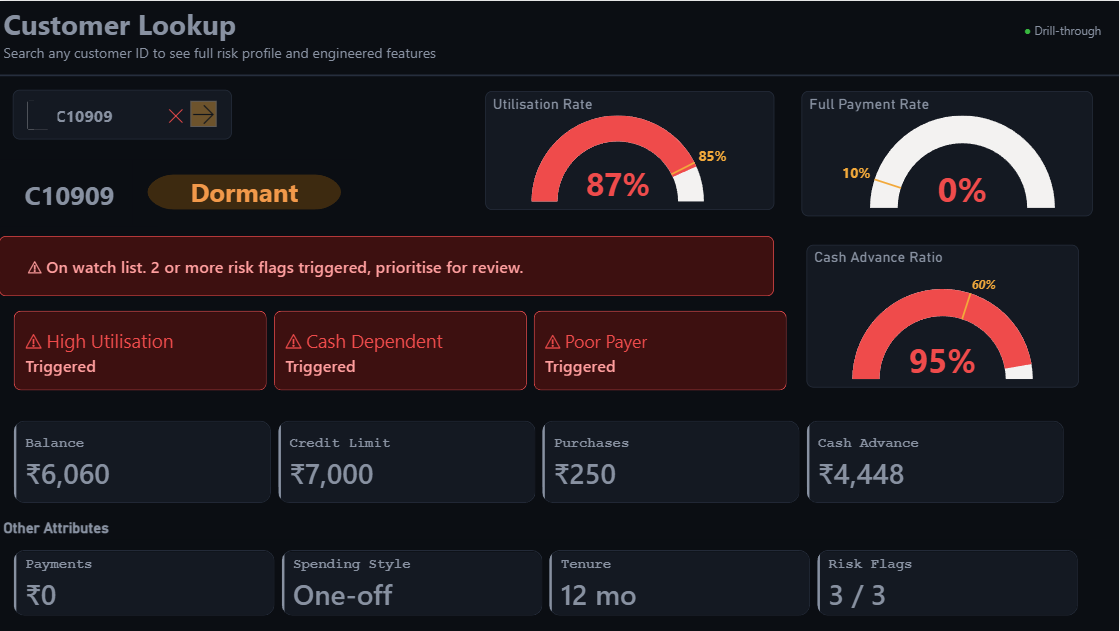

Layout of this report page (visuals, bound fields, positions):
{"tool":"powerbi","page":{"name":"04 Lookup","canvas":[1280,720],"ordinal":3},"visuals":[{"type":"textbox","box":[0,0,1280,78.6],"z":0},{"type":"textSlicer","fields":{"Values":["credit_card_final.cust_id"]},"box":[15.7,101.4,250,57.1],"z":0,"group":"g1"},{"type":"shape","box":[39.4,102.6,26.9,44.3],"z":1000,"group":"g1"},{"type":"cardVisual","fields":{"Data":["credit_card_final.Selected Balance","credit_card_final.Selected Credit Limit","credit_card_final.Selected Purchases","credit_card_final.Selected Cash Advance"]},"box":[0,462.9,1234.3,128.6],"z":1000},{"type":"group","id":"g1","title":"Group 1","box":[15.7,101.4,250,57.1],"z":2000},{"type":"shape","box":[0,78.6,1280,12.9],"z":3000},{"type":"gauge","title":"Utilisation Rate","fields":{"Y":["credit_card_final.Selected Utilisation"]},"box":[555.7,102.9,330,135.7],"z":4000},{"type":"gauge","title":"Full Payment Rate","fields":{"Y":["credit_card_final.Selected Full Payment"]},"box":[917.1,102.9,332.9,142.9],"z":5000},{"type":"gauge","title":"Cash Advance Ratio","fields":{"Y":["credit_card_final.Selected Cash Ratio"]},"box":[922.9,278.6,311.4,162.9],"z":6000},{"type":"cardVisual","fields":{"Data":["credit_card_final.Selected Customer ID"]},"box":[0,181.4,181.4,75.7],"z":7000},{"type":"cardVisual","fields":{"Data":["credit_card_final.Selected Segment"]},"box":[152.9,181.4,255.7,74.3],"z":8000},{"type":"cardVisual","title":"Other Attributes","fields":{"Data":["credit_card_final.Selected Payments","credit_card_final.Selected Purchase Type","credit_card_final.Selected Tenure","credit_card_final.Selected Risk Flags"]},"box":[0,591.4,1250,128.6],"z":9000},{"type":"cardVisual","fields":{"Data":["credit_card_final.Watch List Status"]},"box":[0,268.6,885.7,68.6],"z":10000},{"type":"cardVisual","fields":{"Data":["credit_card_final.High Util Display","credit_card_final.Cash Dep Display","credit_card_final.Poor Payer Display"]},"box":[0,337.1,917.1,125.7],"z":11000}]}

Visuals, with their boxes in screenshot pixels (x1, y1, x2, y2), scaled from the page's 1280x720 canvas onto the 1120x631 screenshot:
textbox: box(0, 0, 1119, 69)
textSlicer - credit_card_final.cust_id: box(14, 89, 232, 139)
shape: box(34, 90, 58, 129)
cardVisual - credit_card_final.Selected Balance x credit_card_final.Selected Credit Limit: box(0, 406, 1080, 518)
"Group 1" group: box(14, 89, 232, 139)
shape: box(0, 69, 1119, 80)
"Utilisation Rate" gauge: box(486, 90, 775, 209)
"Full Payment Rate" gauge: box(802, 90, 1094, 215)
"Cash Advance Ratio" gauge: box(808, 244, 1080, 387)
cardVisual - credit_card_final.Selected Customer ID: box(0, 159, 159, 225)
cardVisual - credit_card_final.Selected Segment: box(134, 159, 358, 224)
"Other Attributes" cardVisual: box(0, 518, 1094, 630)
cardVisual - credit_card_final.Watch List Status: box(0, 235, 775, 296)
cardVisual - credit_card_final.High Util Display x credit_card_final.Cash Dep Display: box(0, 295, 802, 406)
